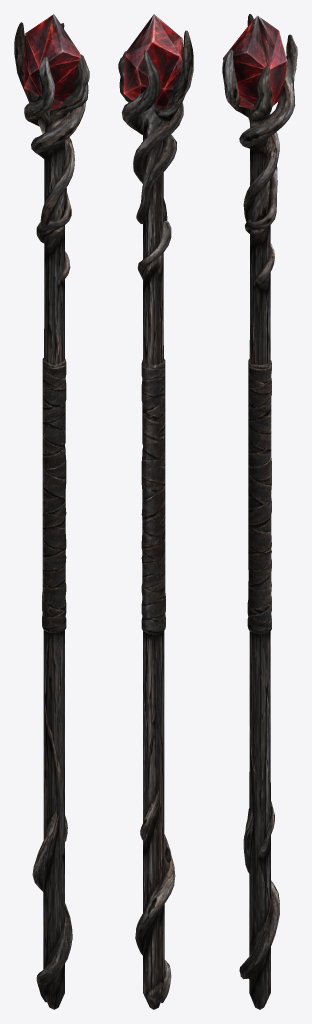
File: SM_H2MagicStuff.fbx
3 renders of one model, left to right at view 1: azimuth 30°, elevation 25°; view 2: azimuth 210°, elevation 25°; view 3: azimuth 330°, elevation 25°, orthographic.
Visible parts, largest first — view 1: SM_H2MagicStuff; view 2: SM_H2MagicStuff; view 3: SM_H2MagicStuff.
Boxes of the visible parts, x1=… form: SM_H2MagicStuff: x1=14, y1=14, x2=89, y2=1009; SM_H2MagicStuff: x1=118, y1=14, x2=193, y2=1009; SM_H2MagicStuff: x1=222, y1=14, x2=297, y2=1009.
Bounding box in the file's own units: 7.65 × 124 × 8.
